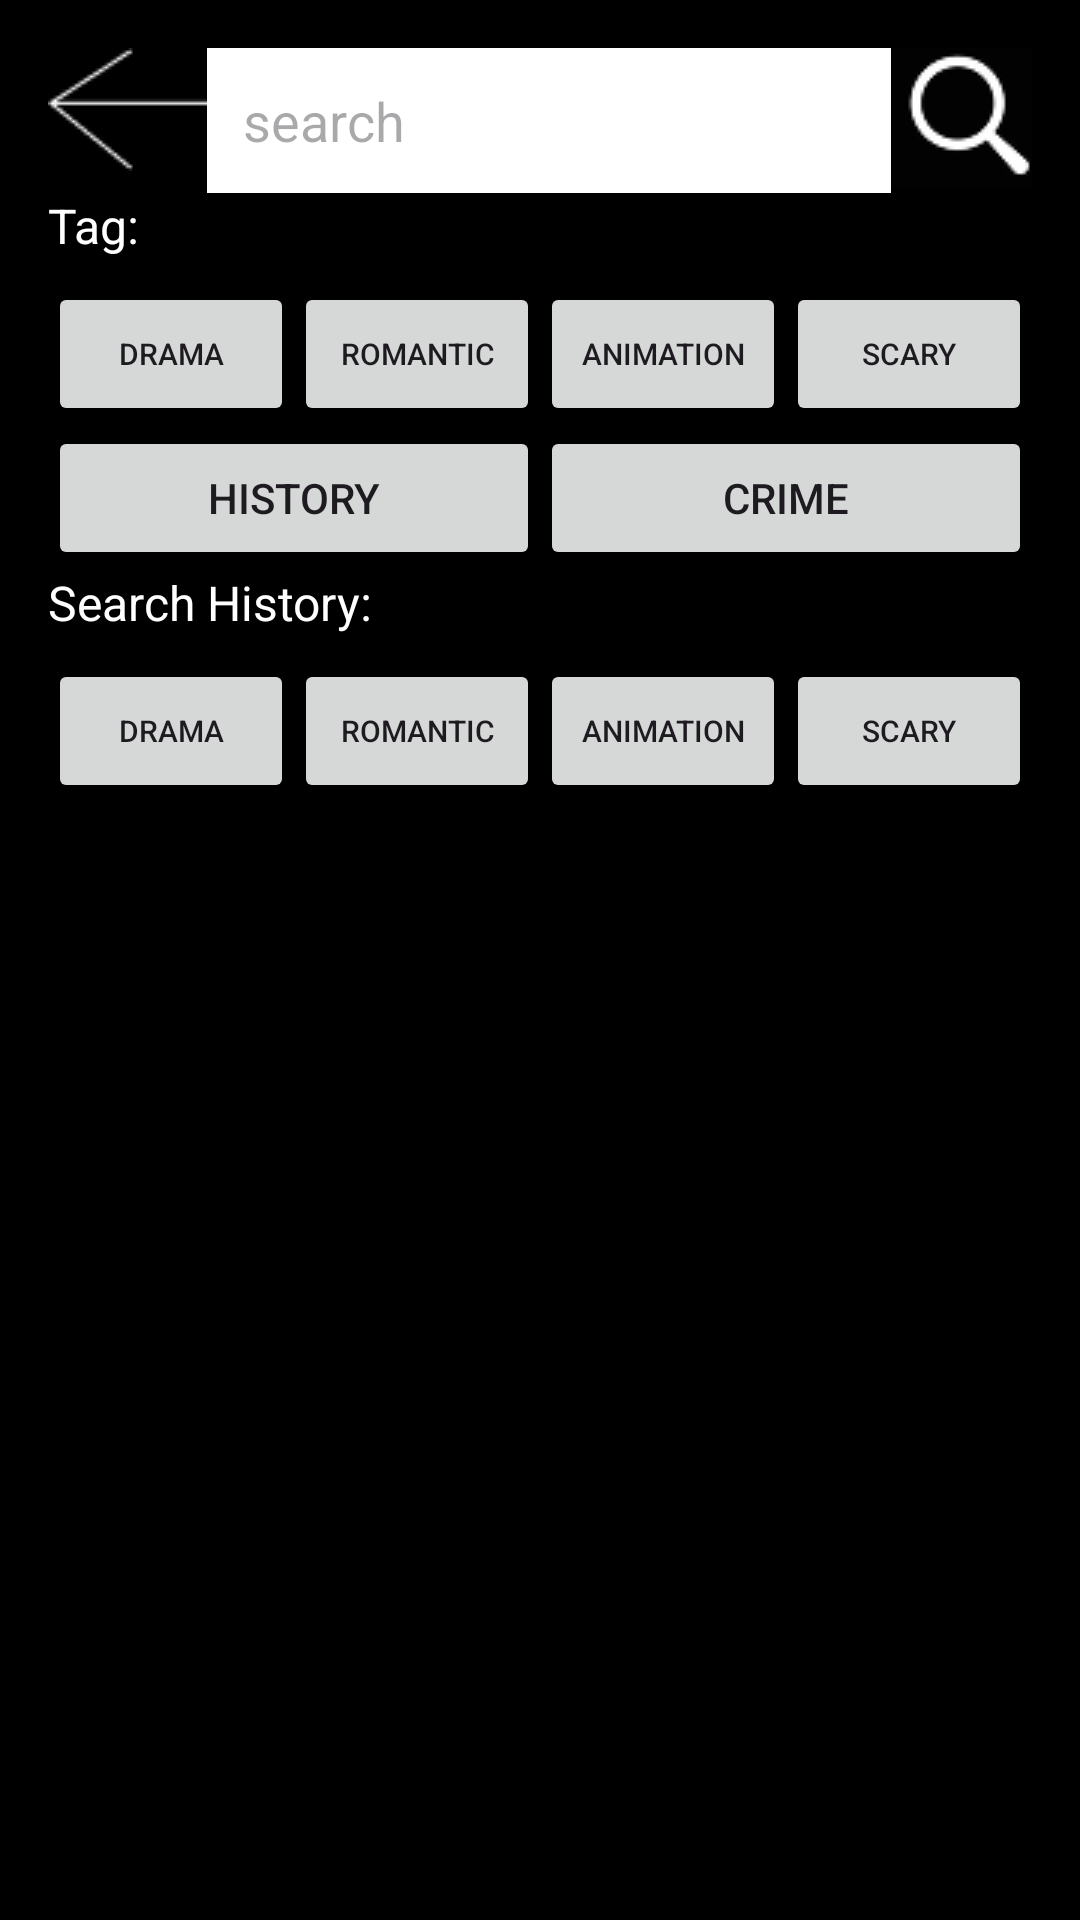

Screen size 1080w x 1920h. Icon name, then its box in pixels as [x1,y1,x2,y2]:
Back: [48,48,207,171]
